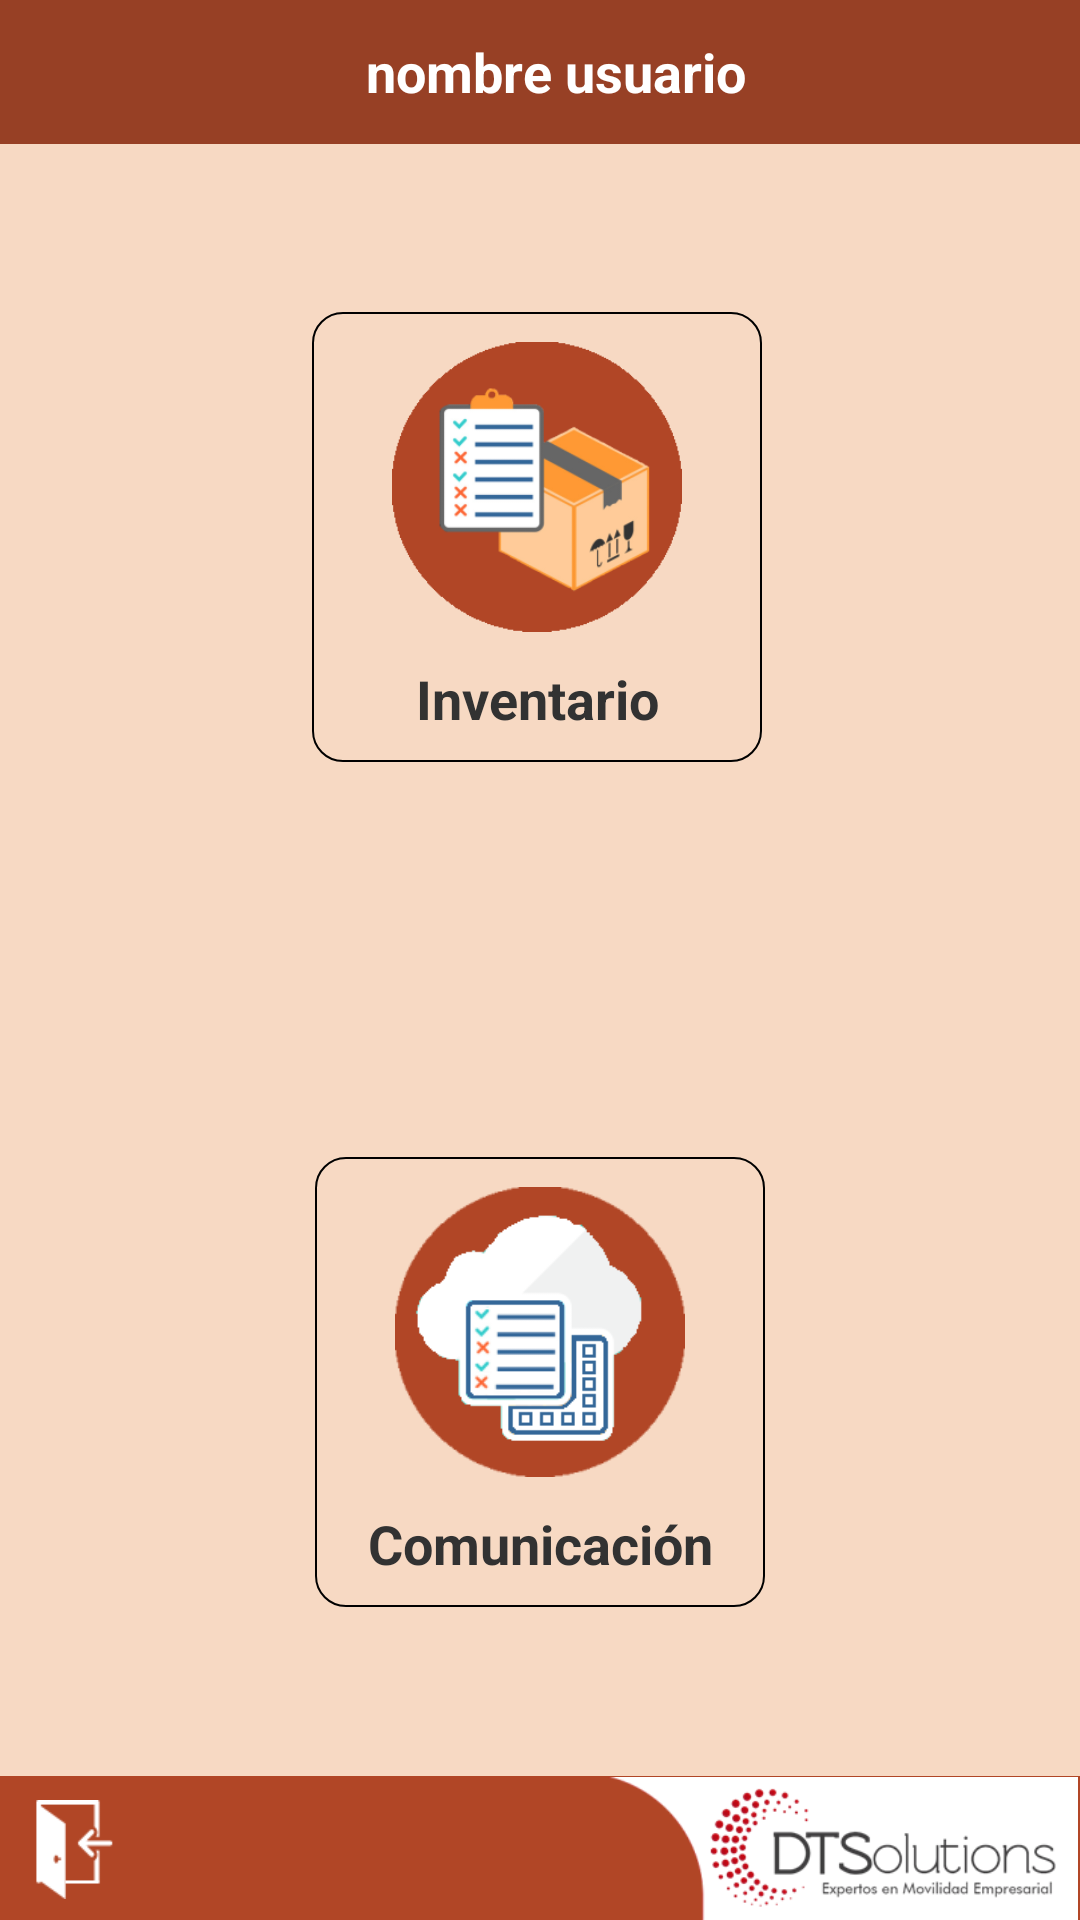

Icons on this 1080×1920 Android screen, each with its box as (x1, y1, x2, y2):
exitapp: (36, 1800, 113, 1899)
